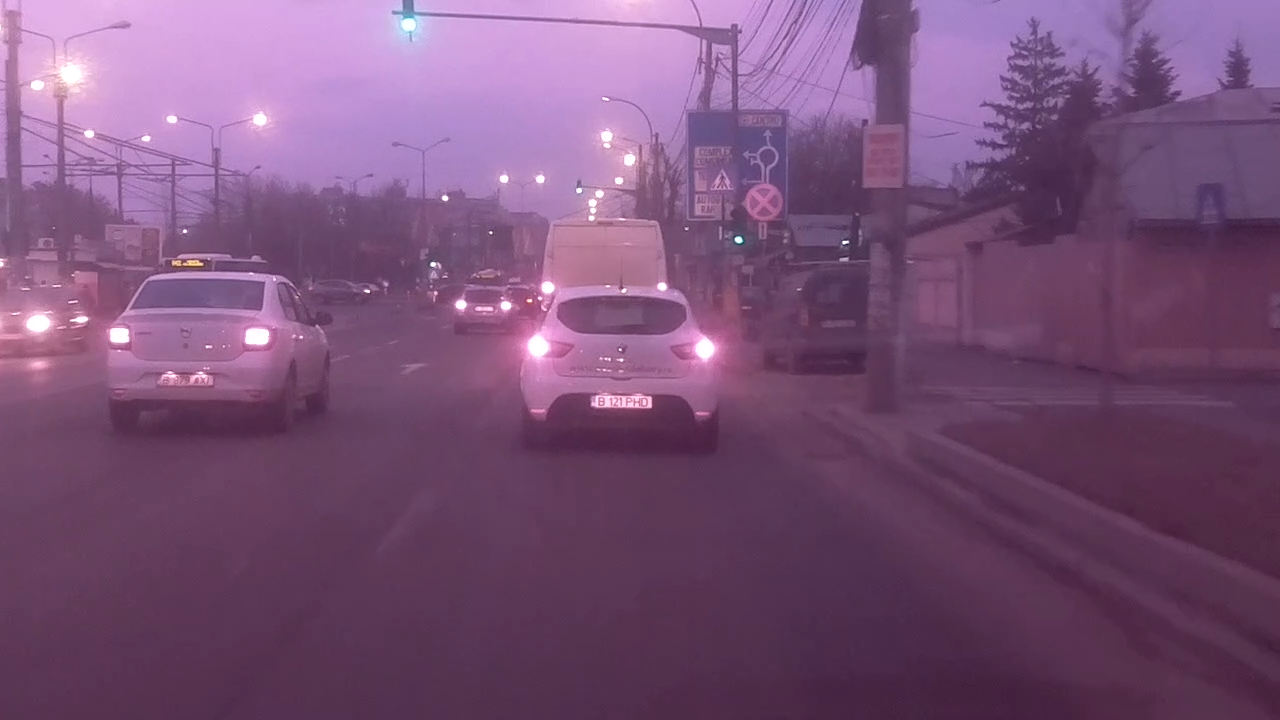license-plate: (583, 392, 654, 411), (153, 372, 216, 388)
